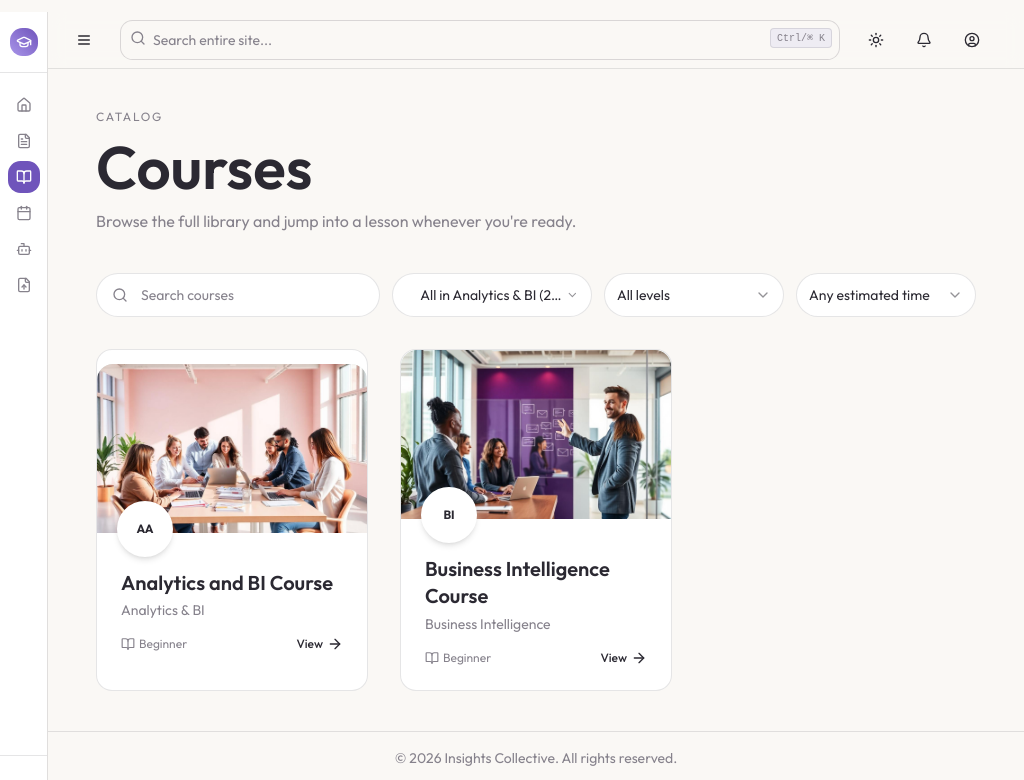
it: 1. a group selection never shares a label with a stored category › each entry selects exactly its own URL and cards, and Back/Forward restore each one
Later steps or results of the test are not shown.
Click the dropdown named "Category" at (492, 295), box x1=392 y1=273 x2=592 y2=317
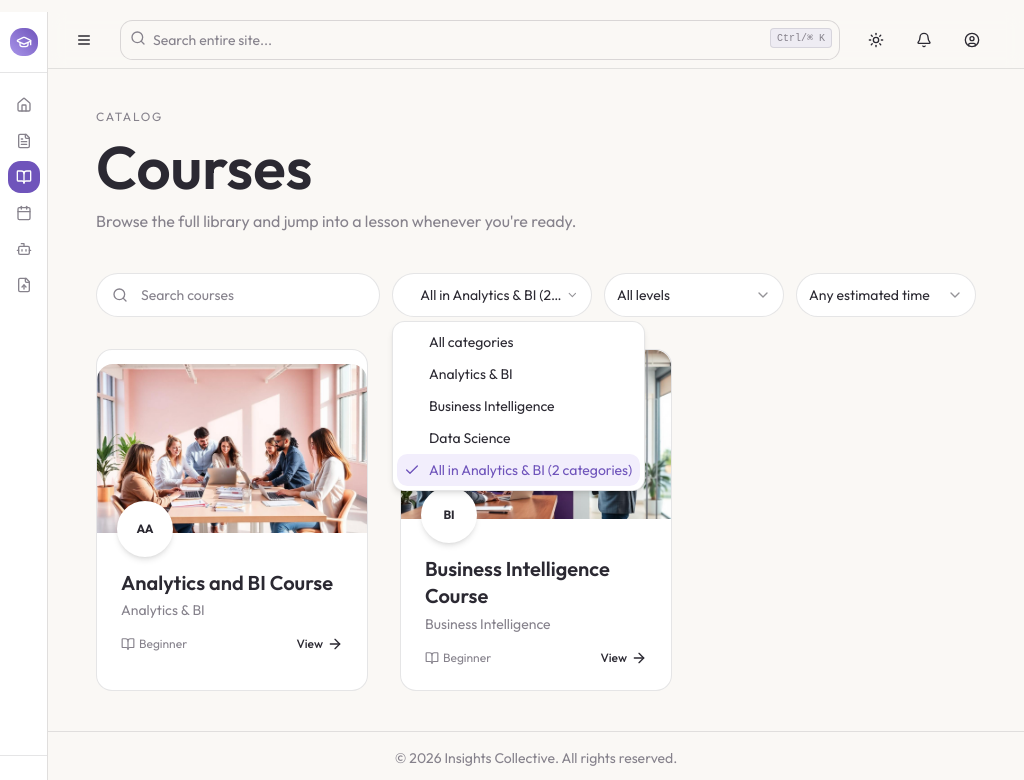
Click the option "Analytics & BI" at (471, 374), box x1=429 y1=365 x2=513 y2=383
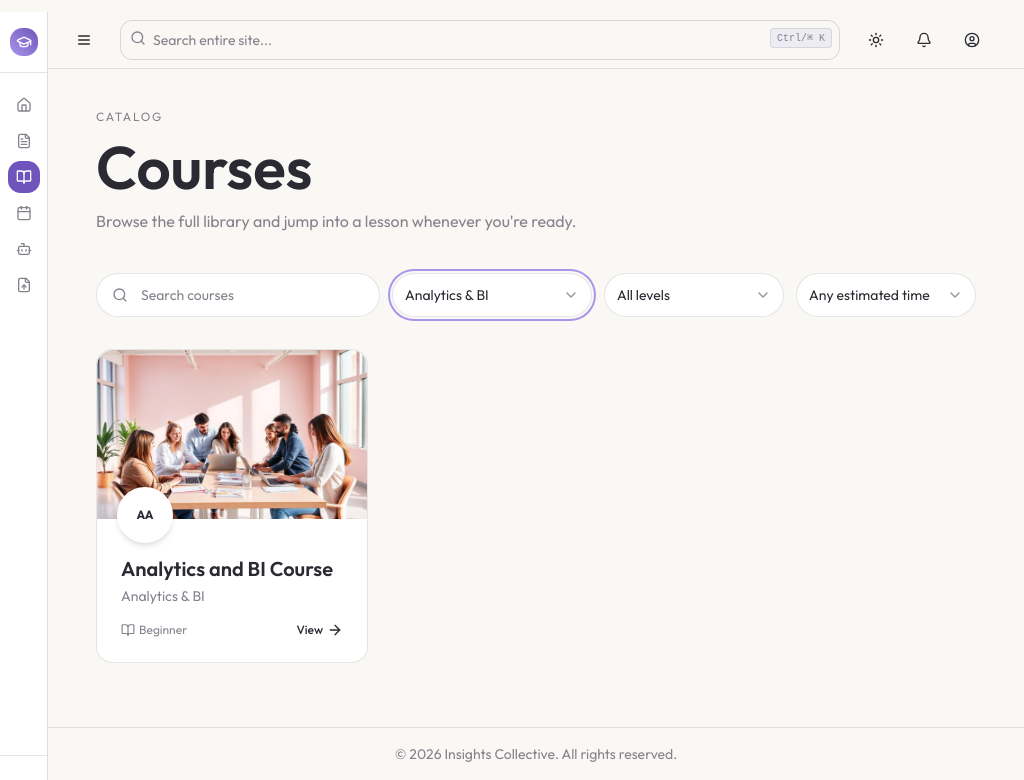
Click the dropdown named "Category" at (492, 295), box x1=392 y1=273 x2=592 y2=317
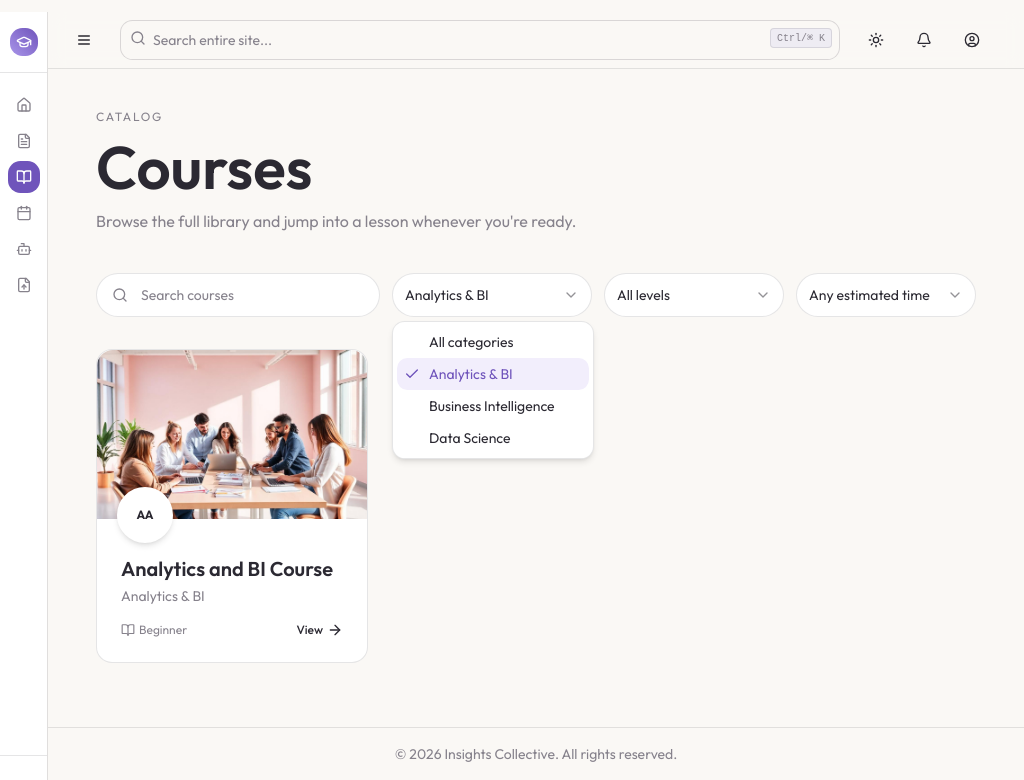
Click the option "Business Intelligence" at (492, 406), box x1=429 y1=397 x2=555 y2=415
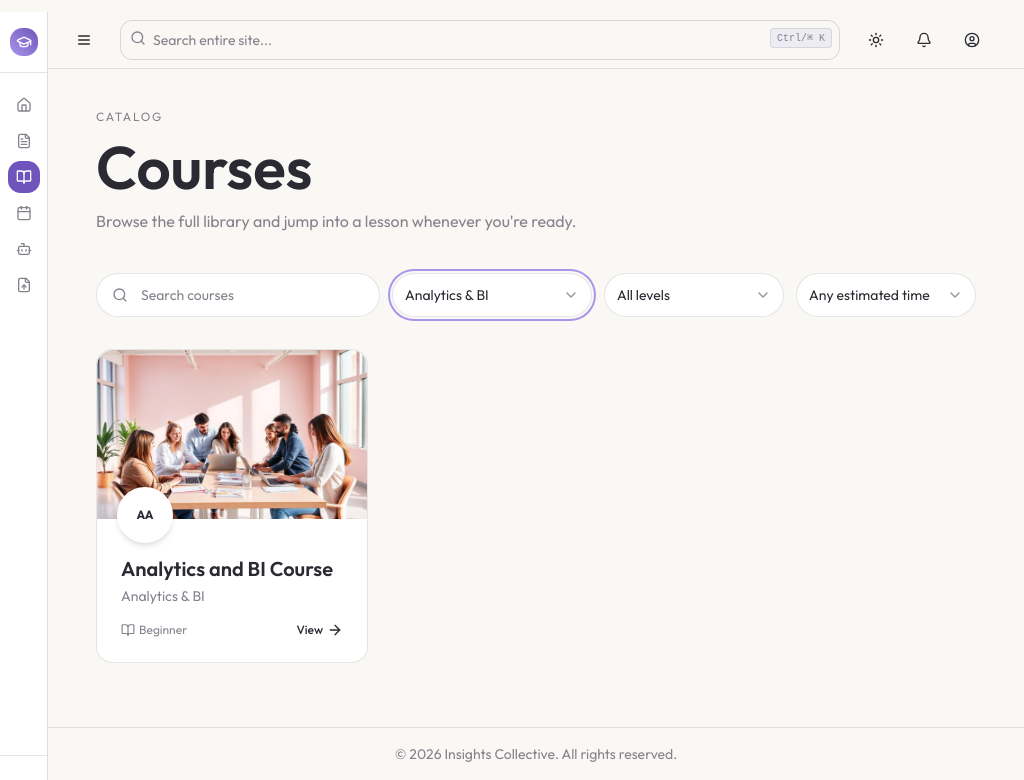
Check: the dropdown named "Category" reads "Analytics & BI", box x1=392 y1=273 x2=592 y2=317
